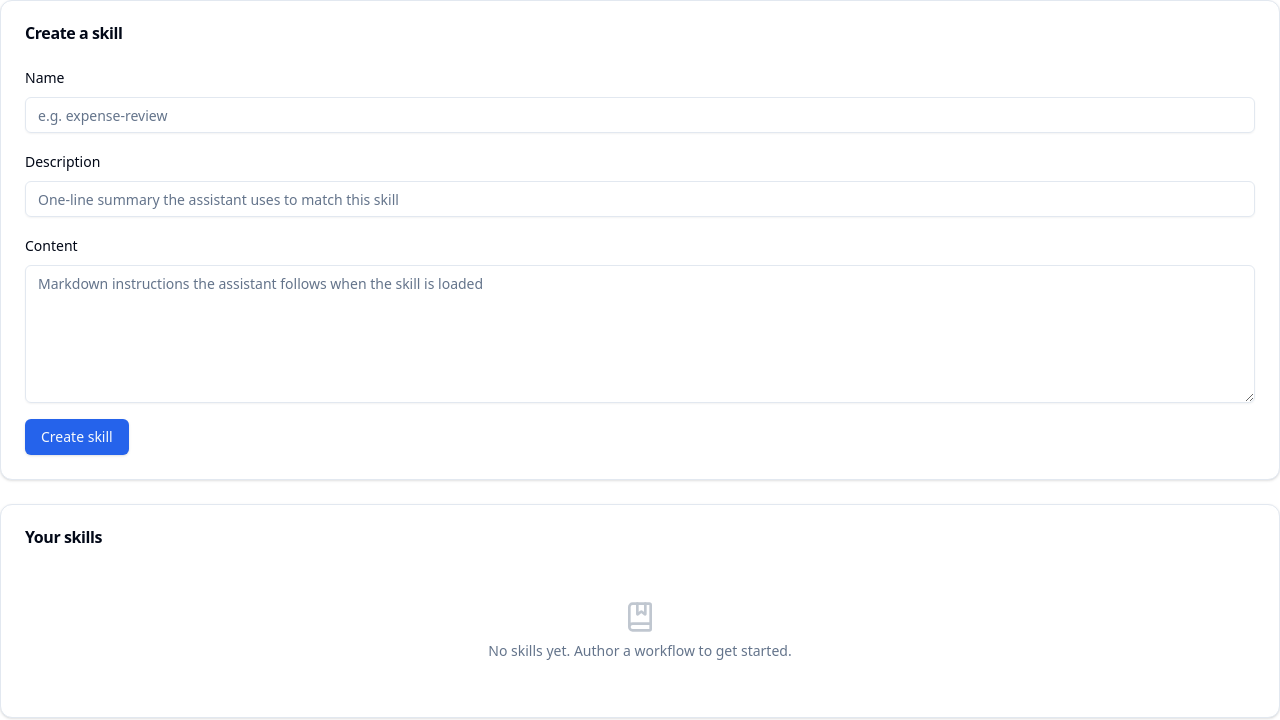
Test: SkillsPanel › creates a skill and adds it to the list
Check: the text "No skills yet. Author a workflow to get started." is shown, box x1=488 y1=641 x2=792 y2=661
In the field labelled "Name": {"x": 640, "y": 115} x1=25 y1=97 x2=1255 y2=133, type "export-report"
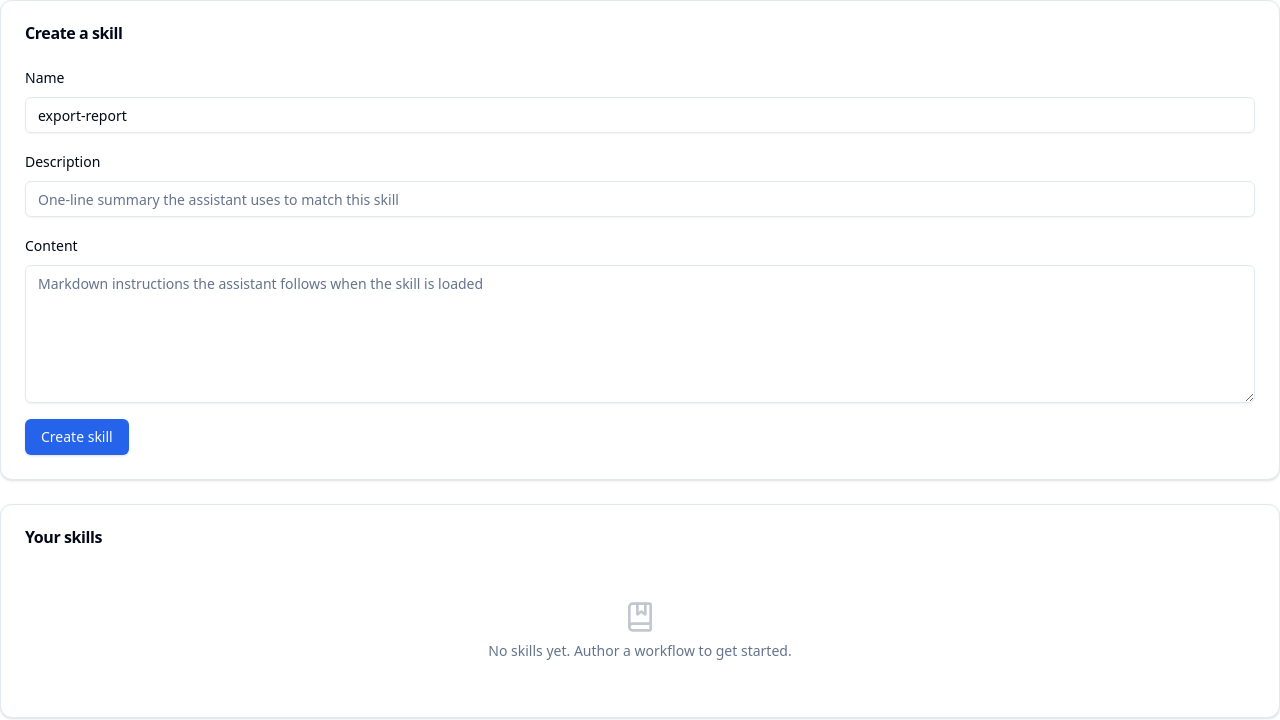
In the field labelled "Description": {"x": 640, "y": 199} x1=25 y1=181 x2=1255 y2=217, type "Export and reconcile a report"
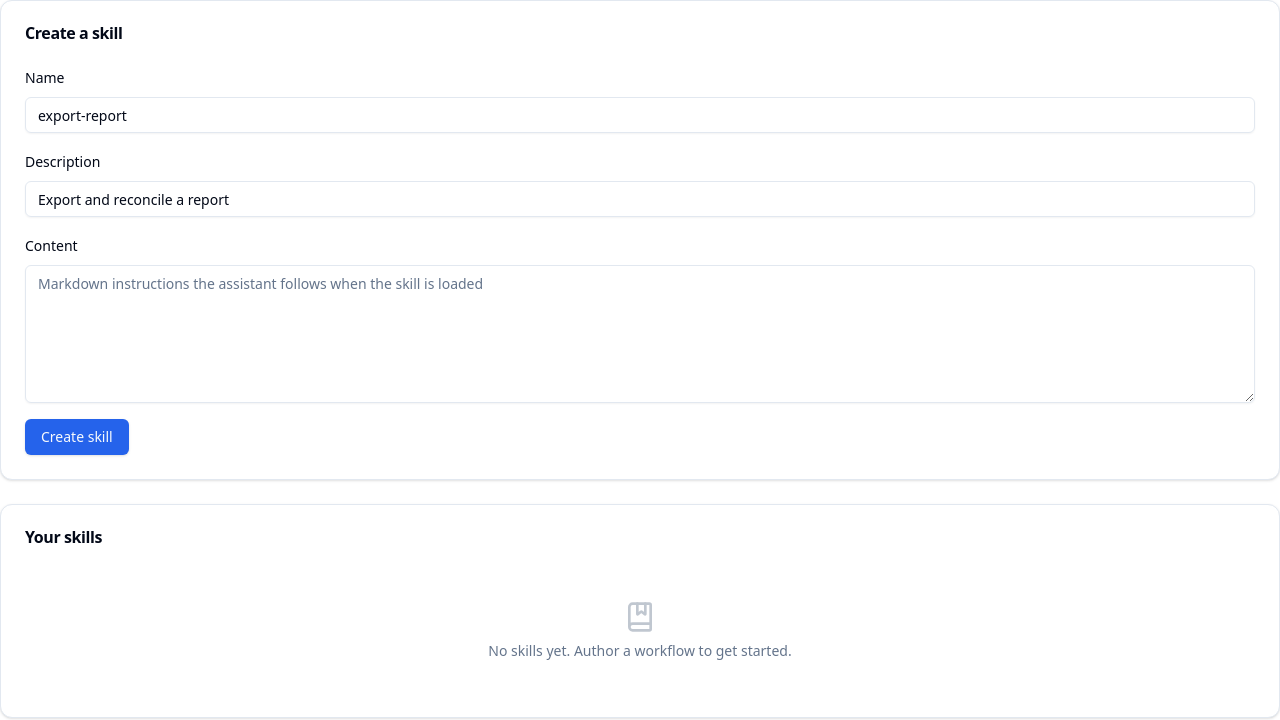
Replace the text in the text box labelled "Content" with "1. Build the report": {"x": 640, "y": 334} x1=25 y1=265 x2=1255 y2=403
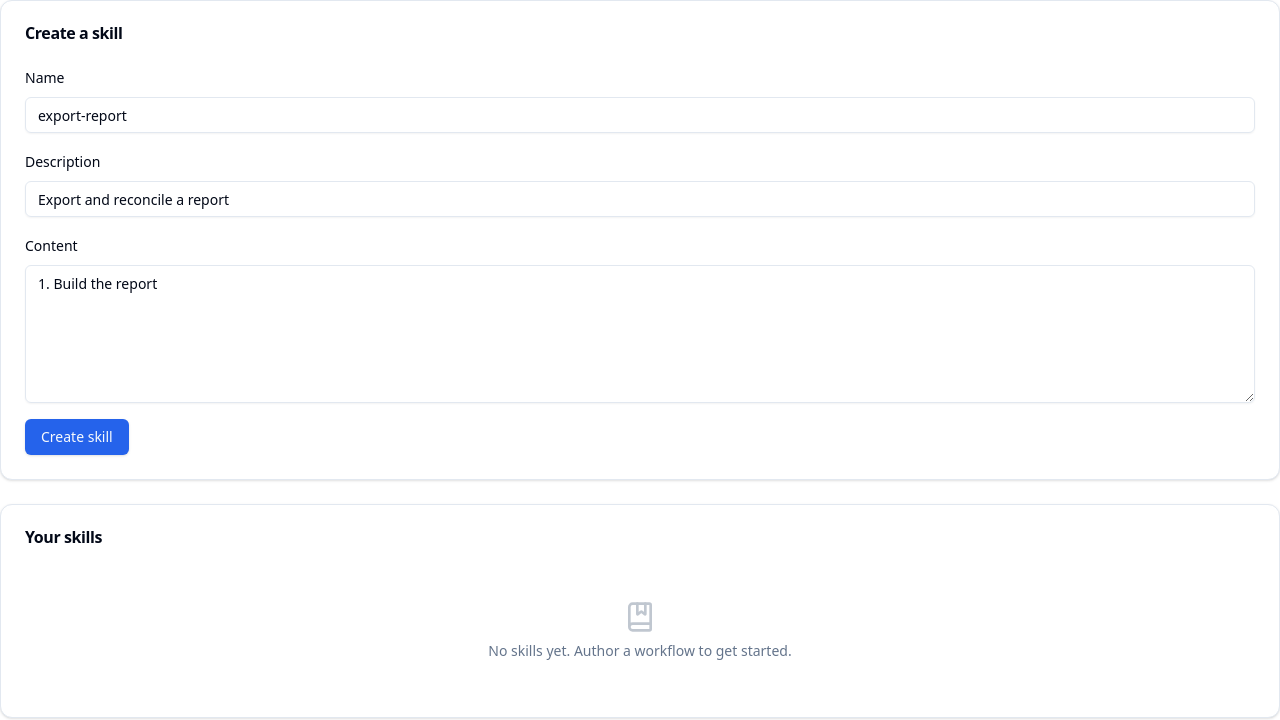
Click the button "Create skill": {"x": 77, "y": 437} x1=25 y1=419 x2=129 y2=455
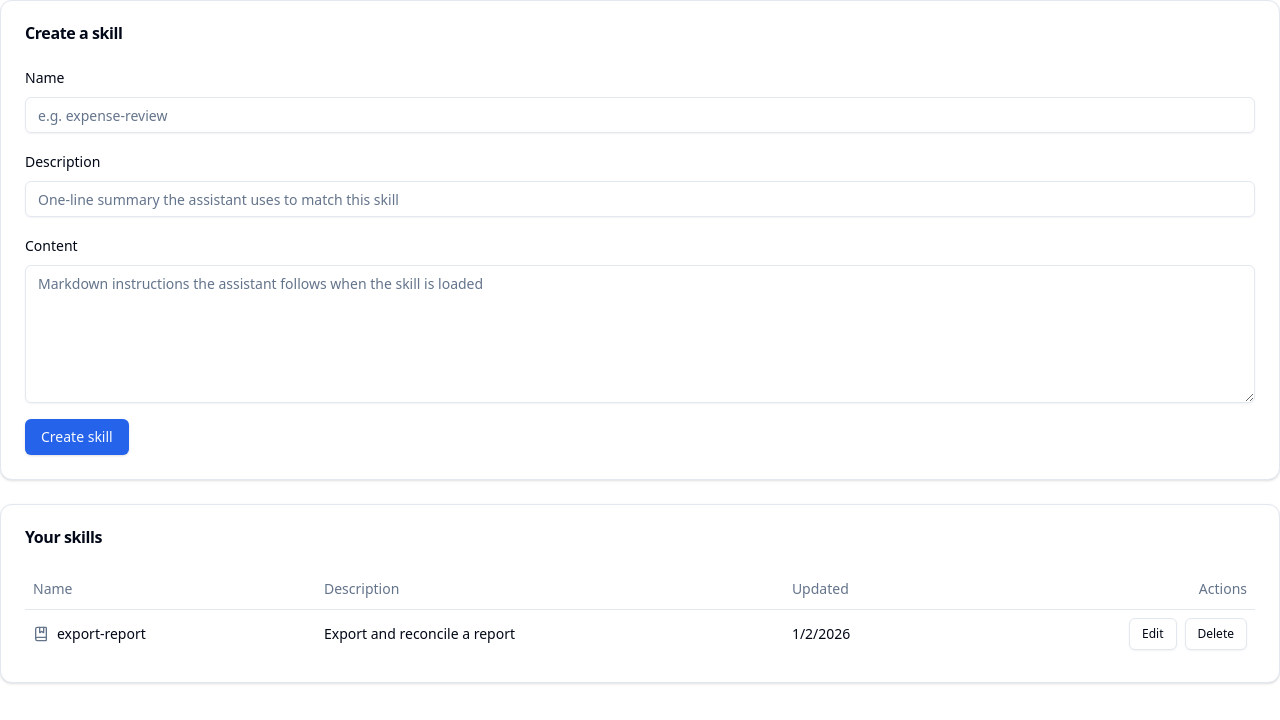
Check: the text "export-report" is shown, box x1=33 y1=624 x2=146 y2=642
